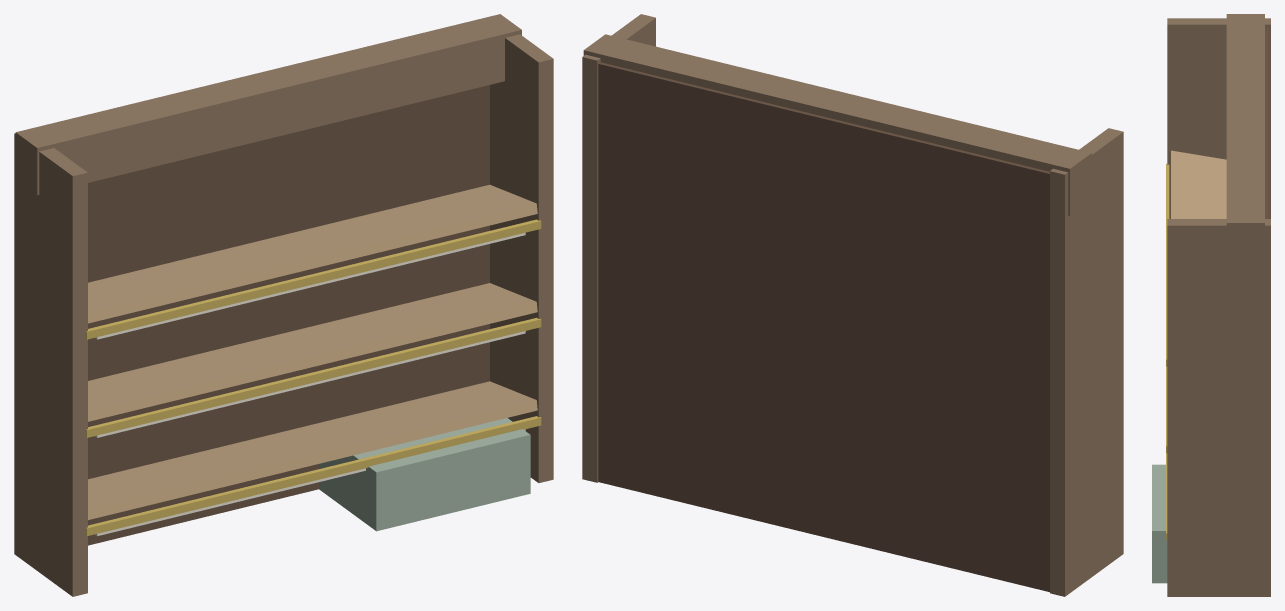
File: shoe_wall.glb
3 renders of one model, left to right at view 1: azimuth 30°, elevation 25°; view 2: azimuth 150°, elevation 25°; view 3: azimuth 270°, elevation 25°, orthographic. The views are drawn at different scales.
Visible parts, largest first — view 1: shoe_wall; view 2: shoe_wall; view 3: shoe_wall.
Part boxes in pixels (x1,y1,x2,y2): shoe_wall: (14,14,553,596); shoe_wall: (582,14,1123,596); shoe_wall: (1152,14,1270,596).
Bounding box in the file's own units: 2.58 × 2.16 × 0.62.
